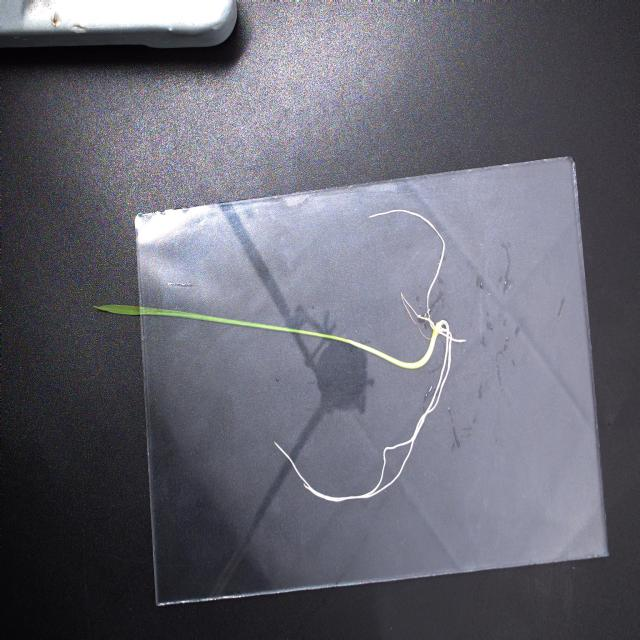leaf: (94, 305, 159, 315)
root: (274, 209, 465, 502)
stem: (95, 305, 438, 369)
